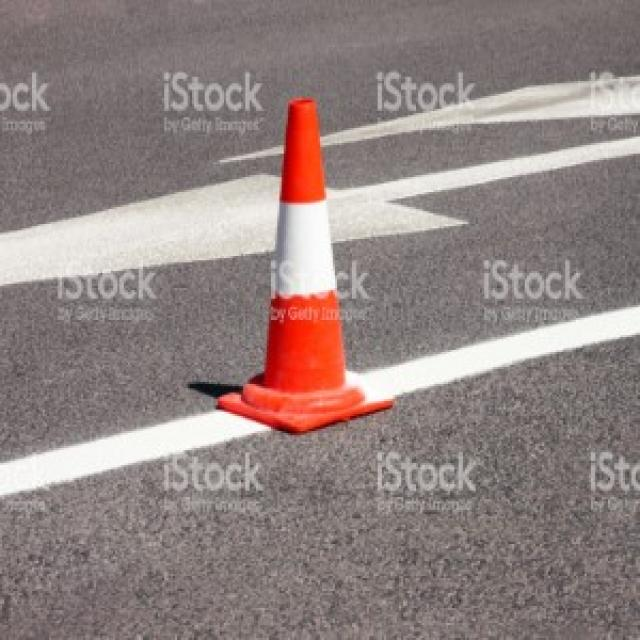Traffic Cone: (214, 96, 392, 433)
